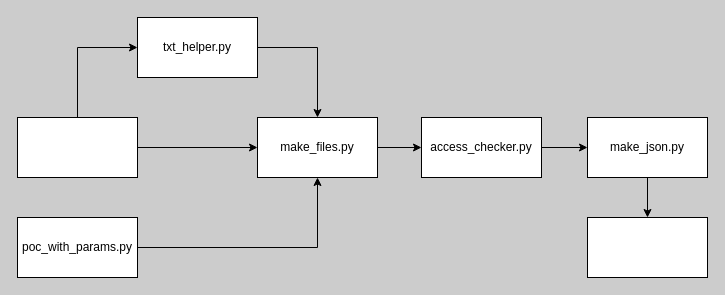
Some shapes in this 725 by 295 pixel diagram are drawn without their labels. The shapes that lost their labels are listed below. From the top down, each one's centre as x and y in pixels, then its label:
At point (77, 147): "poc.py".
At point (647, 247): "webapp".
